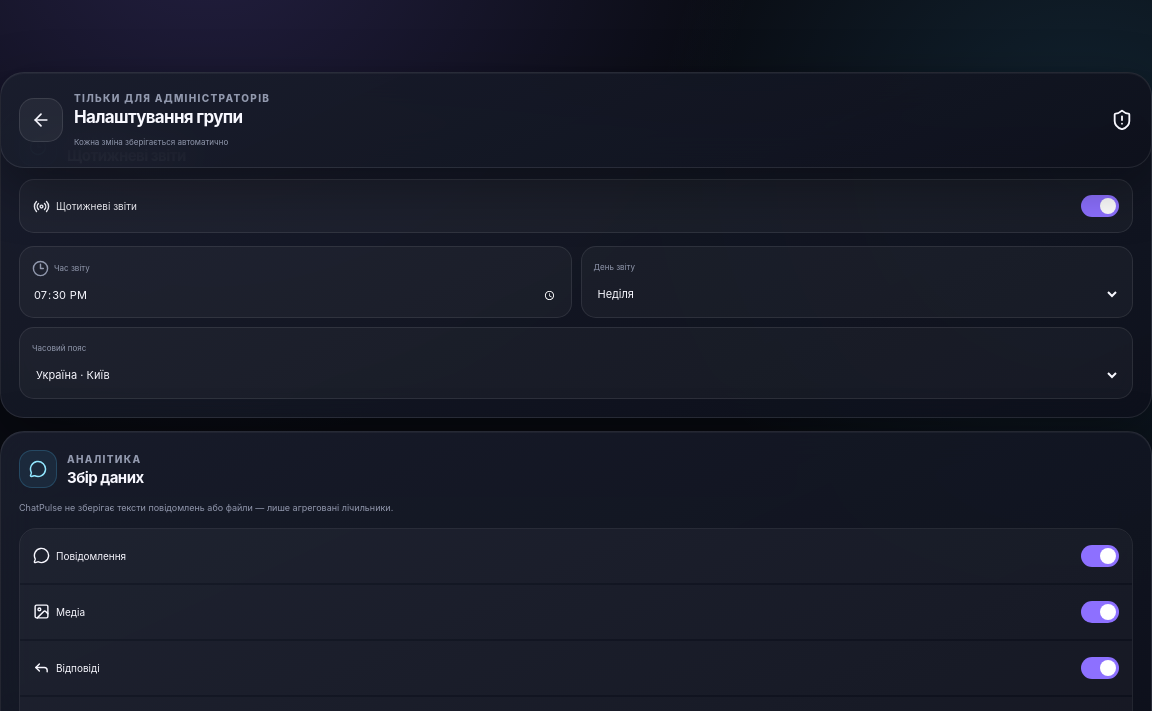
it: GroupSettingsPanel › restores the server value when autosave fails
Click the checkbox labelled "Повідомлення": [91, 556] box [20,529,1132,583]
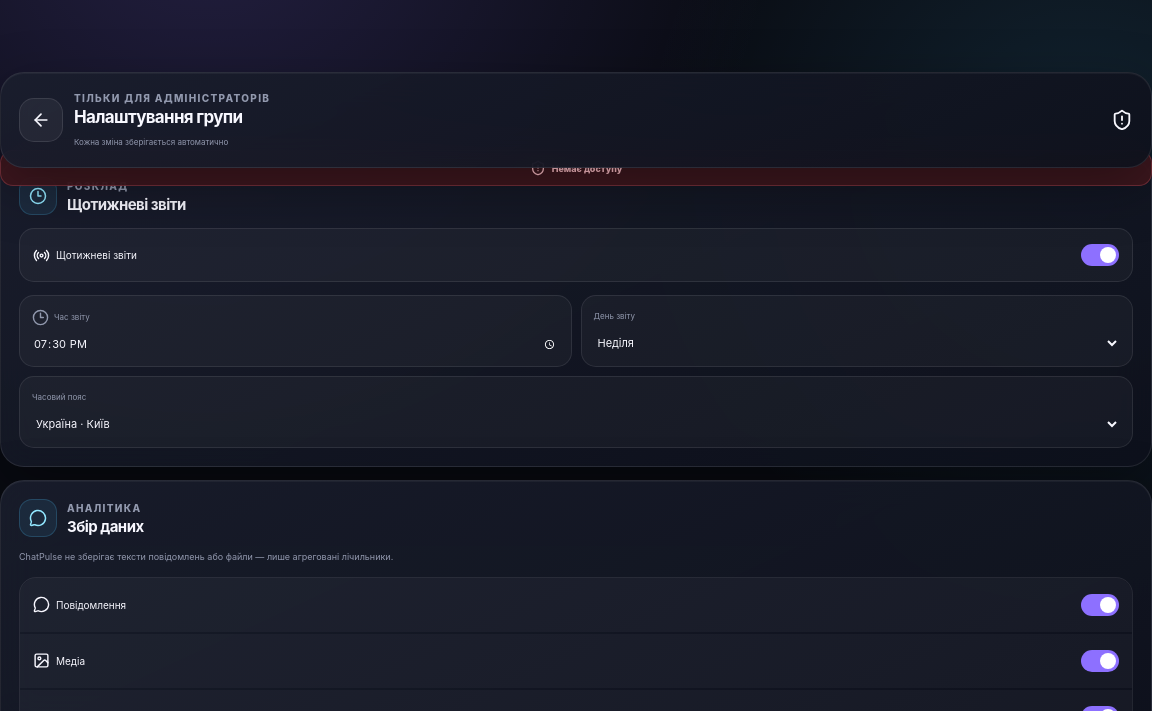
Expected: the checkbox labelled "Повідомлення" is checked, [20,578,1132,632]
Expected: the text "Немає доступу" is shown, [0,150,1151,186]
